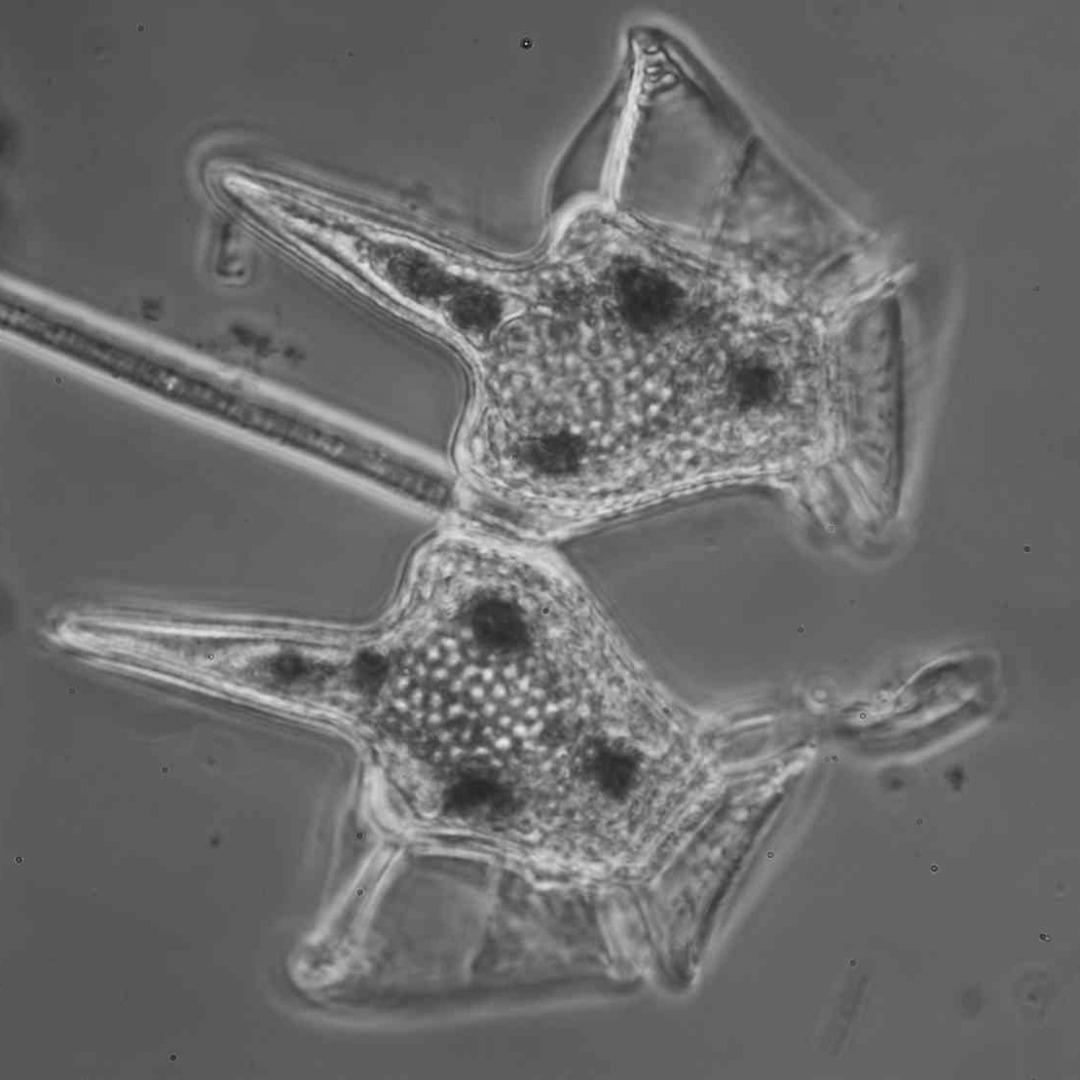dinophysis_caudata: (43, 537, 817, 1010), (213, 27, 910, 540)
